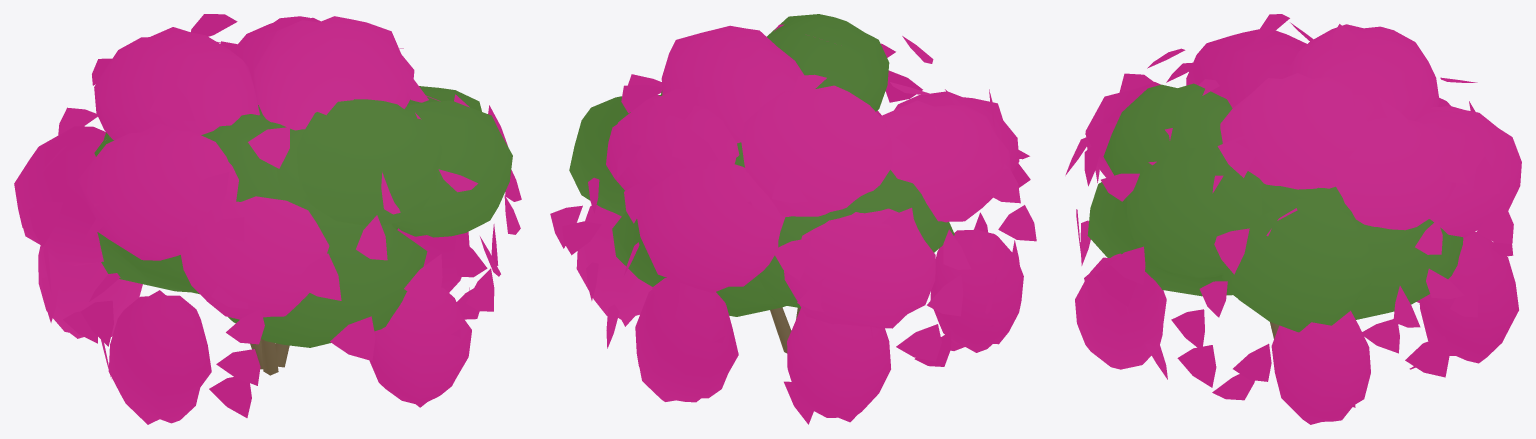
File: Blender_Bougainvillea_1.glb
The picture shows the model from 3 angles, left to right: view 1: azimuth 30°, elevation 25°; view 2: azimuth 150°, elevation 25°; view 3: azimuth 270°, elevation 25°; orthographic projection. The views are drawn at different scales.
Parts seen in each view (by area): view 1: Blender_Bougainvillea_1; view 2: Blender_Bougainvillea_1; view 3: Blender_Bougainvillea_1.
Part boxes in pixels (x1,y1,x2,y2): Blender_Bougainvillea_1: [14, 14, 521, 424]; Blender_Bougainvillea_1: [550, 14, 1036, 424]; Blender_Bougainvillea_1: [1065, 14, 1521, 424].
Bounding box in the file's own units: 3.76 × 2.65 × 3.59.
